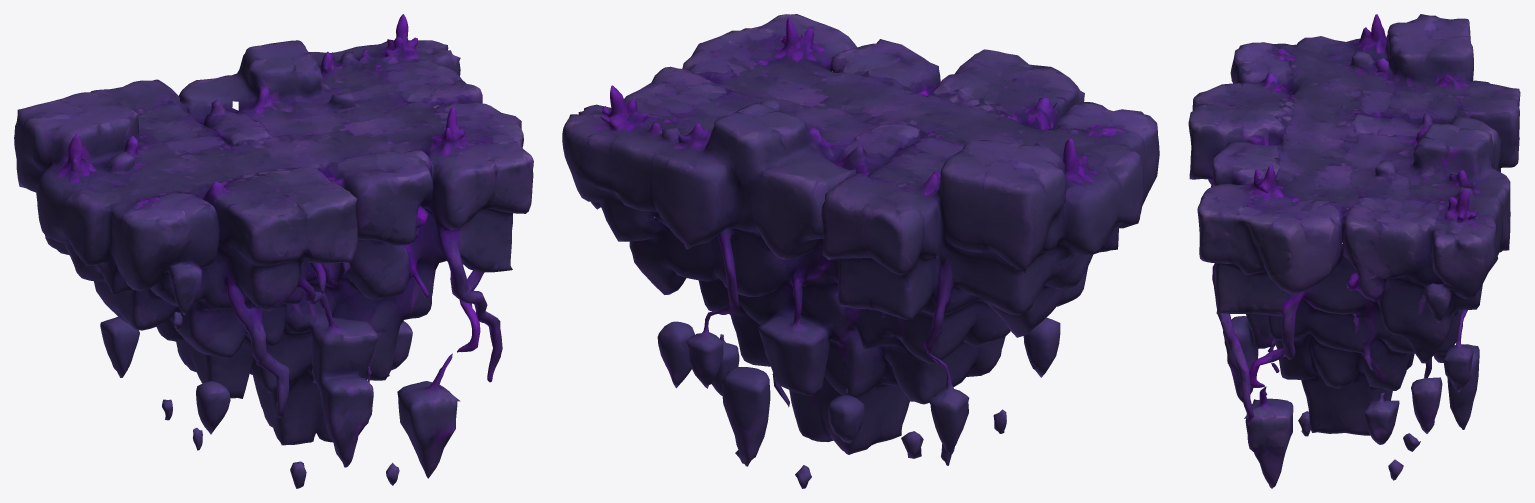
Rendered from floating_island_starfall.glb.
The picture shows the model from 3 angles, left to right: view 1: azimuth 30°, elevation 25°; view 2: azimuth 150°, elevation 25°; view 3: azimuth 270°, elevation 25°; orthographic projection. The views are drawn at different scales.
Visible parts, largest first — view 1: tripo_node_5ad501f4; view 2: tripo_node_5ad501f4; view 3: tripo_node_5ad501f4.
Boxes of the visible parts, x1,y1,x2,y2 form: tripo_node_5ad501f4: [14, 14, 533, 488]; tripo_node_5ad501f4: [562, 14, 1159, 488]; tripo_node_5ad501f4: [1188, 14, 1520, 488].
Bounding box in the file's own units: 99.91 × 79.5 × 69.75.
1 material, 1 textured.
